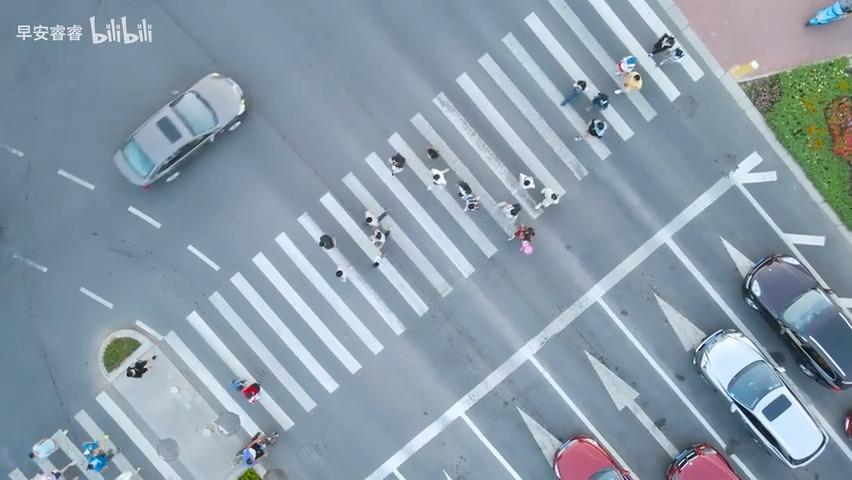Civilian: (242, 430, 278, 465), (804, 0, 851, 26), (368, 227, 390, 267), (506, 223, 535, 253), (83, 441, 111, 472), (206, 411, 240, 436), (456, 182, 480, 212), (560, 79, 586, 106), (647, 32, 675, 57), (614, 70, 642, 94), (28, 437, 59, 458), (242, 441, 268, 465), (533, 187, 559, 210), (658, 46, 684, 66), (364, 208, 391, 227), (249, 430, 279, 447), (585, 91, 609, 112), (493, 200, 520, 218), (585, 117, 607, 138), (615, 55, 637, 76), (126, 358, 150, 377), (369, 227, 391, 247), (429, 166, 449, 187), (242, 381, 261, 403), (82, 439, 105, 457), (388, 153, 405, 176), (86, 456, 109, 472), (463, 192, 480, 212), (29, 469, 61, 479), (518, 172, 535, 190), (456, 179, 472, 197), (318, 234, 336, 249), (364, 209, 379, 226), (231, 377, 246, 390), (426, 146, 439, 159)
